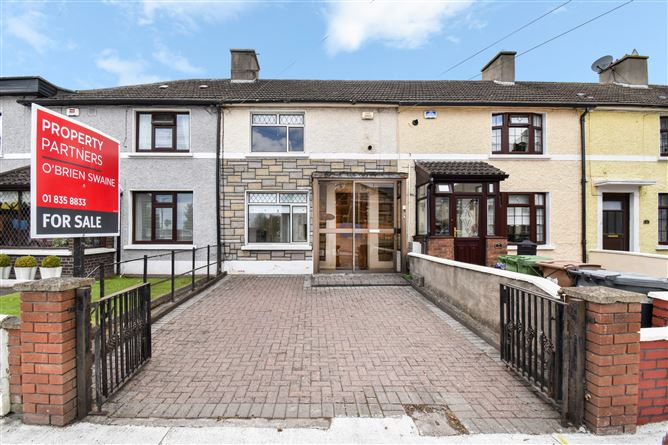property sign: (27, 95, 125, 256)
